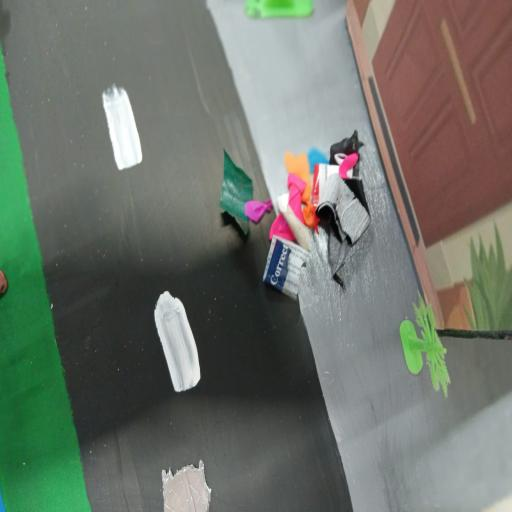trash: (216, 134, 383, 302)
